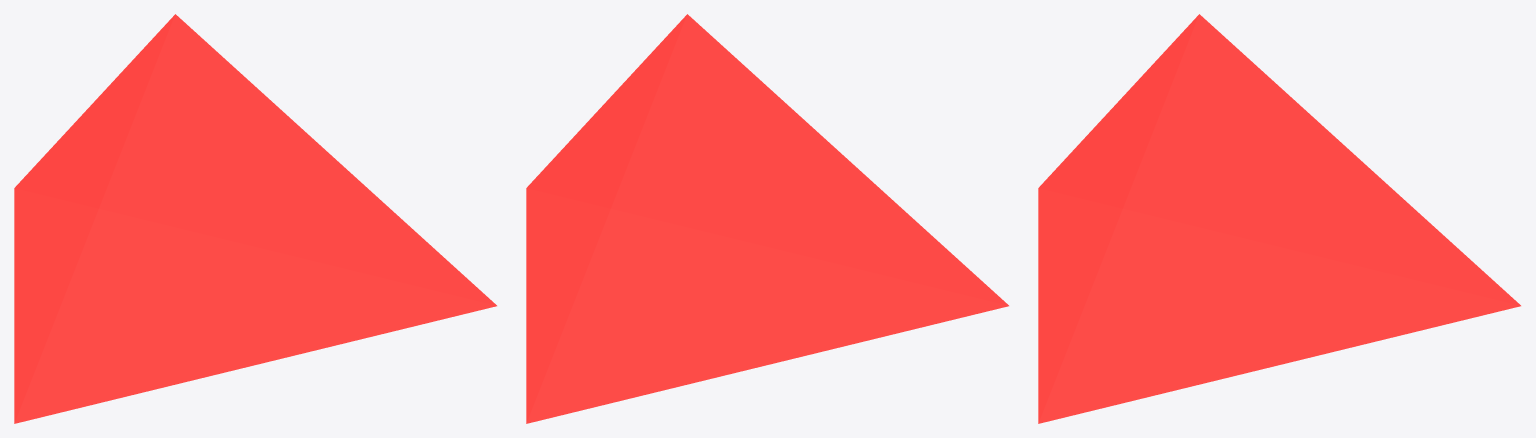
The model's file is spinner_red.glb.
3 views of the same model, side by side, from view 1: azimuth 30°, elevation 25°; view 2: azimuth 150°, elevation 25°; view 3: azimuth 270°, elevation 25° (orthographic).
Parts seen in each view (by area): view 1: Cone; view 2: Cone; view 3: Cone.
Part boxes in pixels (x1,y1,x2,y2): Cone: [14, 14, 496, 423]; Cone: [526, 14, 1008, 423]; Cone: [1038, 14, 1520, 423].
Size of the model in its own units: 1.73 by 0.996 by 1.49.
